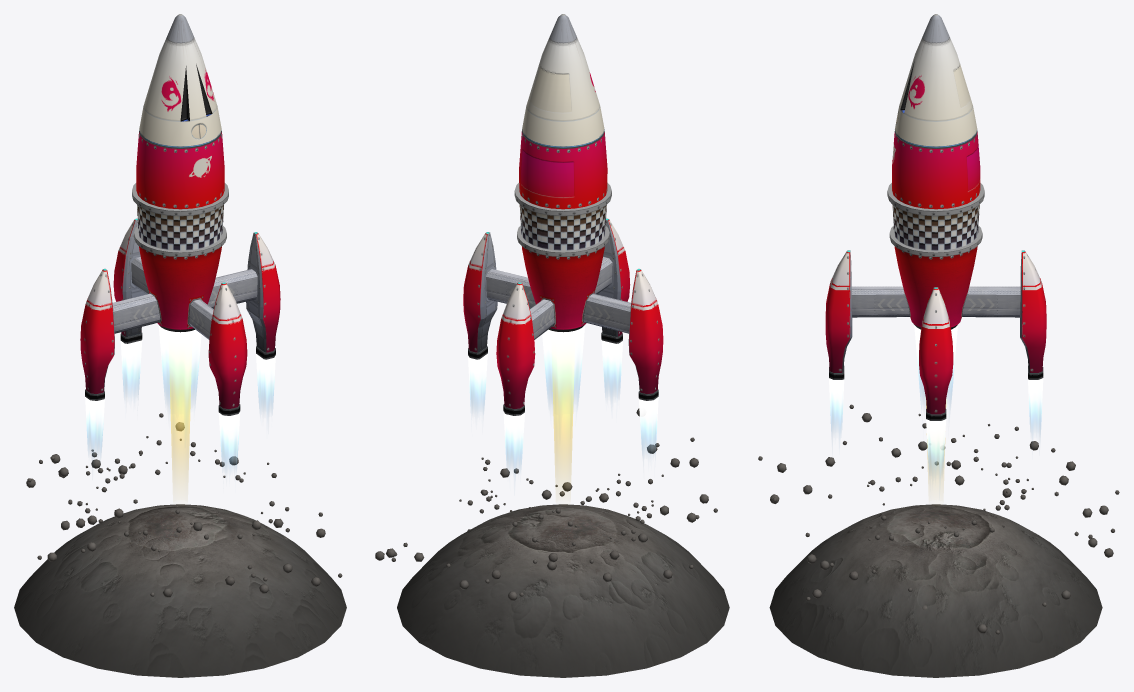
3 views of the same model, side by side, from view 1: azimuth 30°, elevation 25°; view 2: azimuth 150°, elevation 25°; view 3: azimuth 270°, elevation 25° (orthographic).
Visible parts, largest first — view 1: Moon, Hull, Strut4, Strut1, Strut2, Blast1, Blast2, Asteroids1, Strut3, StrutBlast3, StrutBlast1, StrutBlast4 (+2 smaller); view 2: Moon, Hull, Strut4, Strut3, Strut2, Blast1, Blast2, Asteroids1, Strut1, StrutBlast1, StrutBlast3, StrutBlast4 (+2 smaller); view 3: Moon, Hull, Strut1, Strut3, Strut2, Asteroids1, StrutBlast2, Asteroids, StrutBlast1, StrutBlast3, Blast1.
Boxes of the visible parts, x1=… form: Moon: x1=14, y1=504, x2=346, y2=677; Hull: x1=132, y1=14, x2=228, y2=332; Strut4: x1=80, y1=268, x2=162, y2=400; Strut1: x1=187, y1=282, x2=247, y2=415; Strut2: x1=208, y1=232, x2=280, y2=359; Blast1: x1=158, y1=325, x2=201, y2=412; Blast2: x1=169, y1=352, x2=191, y2=481; Asteroids1: x1=26, y1=413, x2=342, y2=597; Strut3: x1=113, y1=218, x2=149, y2=343; StrutBlast3: x1=120, y1=340, x2=142, y2=397; StrutBlast1: x1=218, y1=411, x2=240, y2=470; StrutBlast4: x1=85, y1=397, x2=104, y2=457; Moon: x1=397, y1=504, x2=729, y2=677; Hull: x1=514, y1=14, x2=611, y2=332; Strut4: x1=581, y1=268, x2=663, y2=400; Strut3: x1=496, y1=282, x2=556, y2=415; Strut2: x1=463, y1=232, x2=535, y2=359; Blast1: x1=542, y1=325, x2=584, y2=409; Blast2: x1=552, y1=352, x2=574, y2=481; Asteroids1: x1=375, y1=408, x2=717, y2=600; Strut1: x1=594, y1=218, x2=630, y2=343; StrutBlast1: x1=601, y1=339, x2=622, y2=400; StrutBlast3: x1=503, y1=411, x2=524, y2=474; StrutBlast4: x1=638, y1=397, x2=658, y2=455; Moon: x1=769, y1=504, x2=1102, y2=677; Hull: x1=887, y1=14, x2=984, y2=329; Strut1: x1=825, y1=250, x2=911, y2=379; Strut3: x1=960, y1=250, x2=1046, y2=379; Strut2: x1=919, y1=287, x2=953, y2=420; Asteroids1: x1=758, y1=404, x2=1119, y2=634; StrutBlast2: x1=926, y1=419, x2=945, y2=478; Asteroids: x1=867, y1=413, x2=1033, y2=540; StrutBlast1: x1=829, y1=378, x2=844, y2=435; StrutBlast3: x1=1028, y1=378, x2=1043, y2=435; Blast1: x1=914, y1=325, x2=957, y2=406.
Size of the model in its own units: 788 by 1550 by 855.
4 materials, 4 textured.
